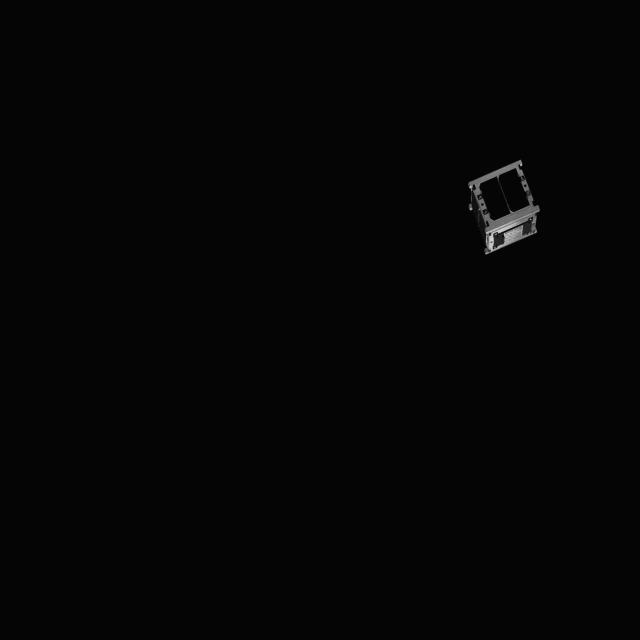satellite: (460, 156, 541, 261)
